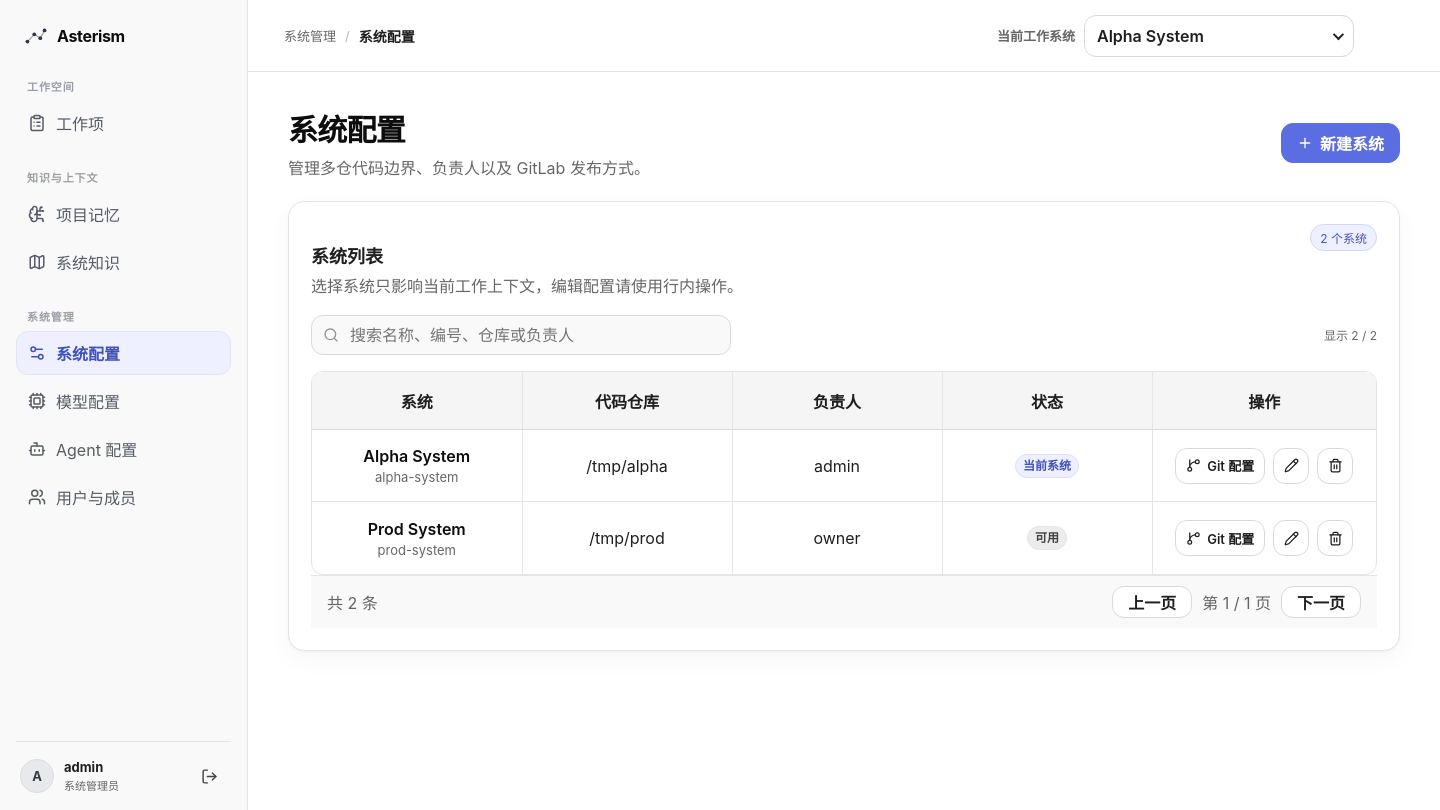
/systems keeps the list first and opens 编辑系统信息 in a dialog
The image size is (1440, 810).
Step 1. Click the button "编辑" in the row of "alpha-system" → (1291, 466), box [1273, 448, 1309, 484]
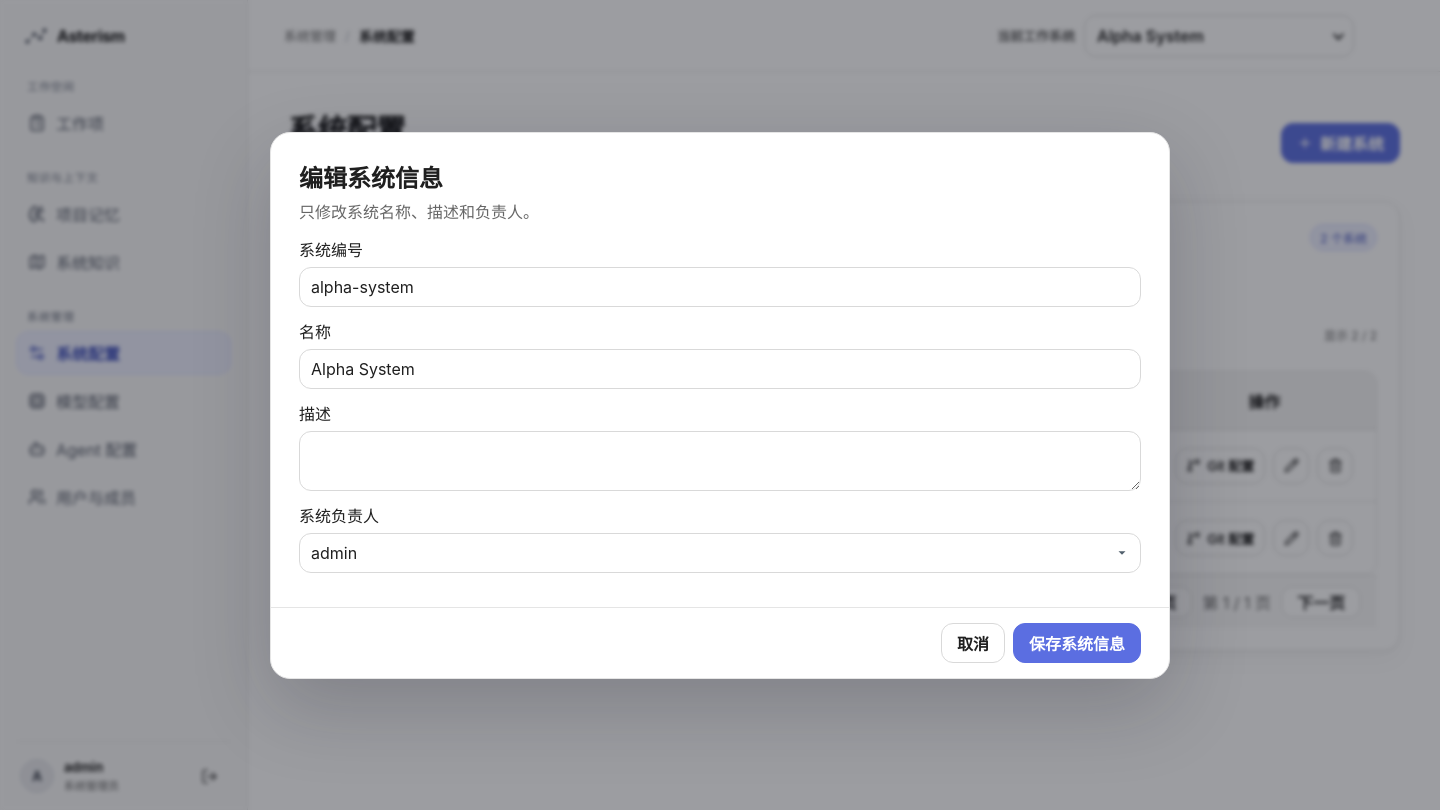
Expected: the heading "编辑系统信息" is shown, [299, 164, 443, 192]
